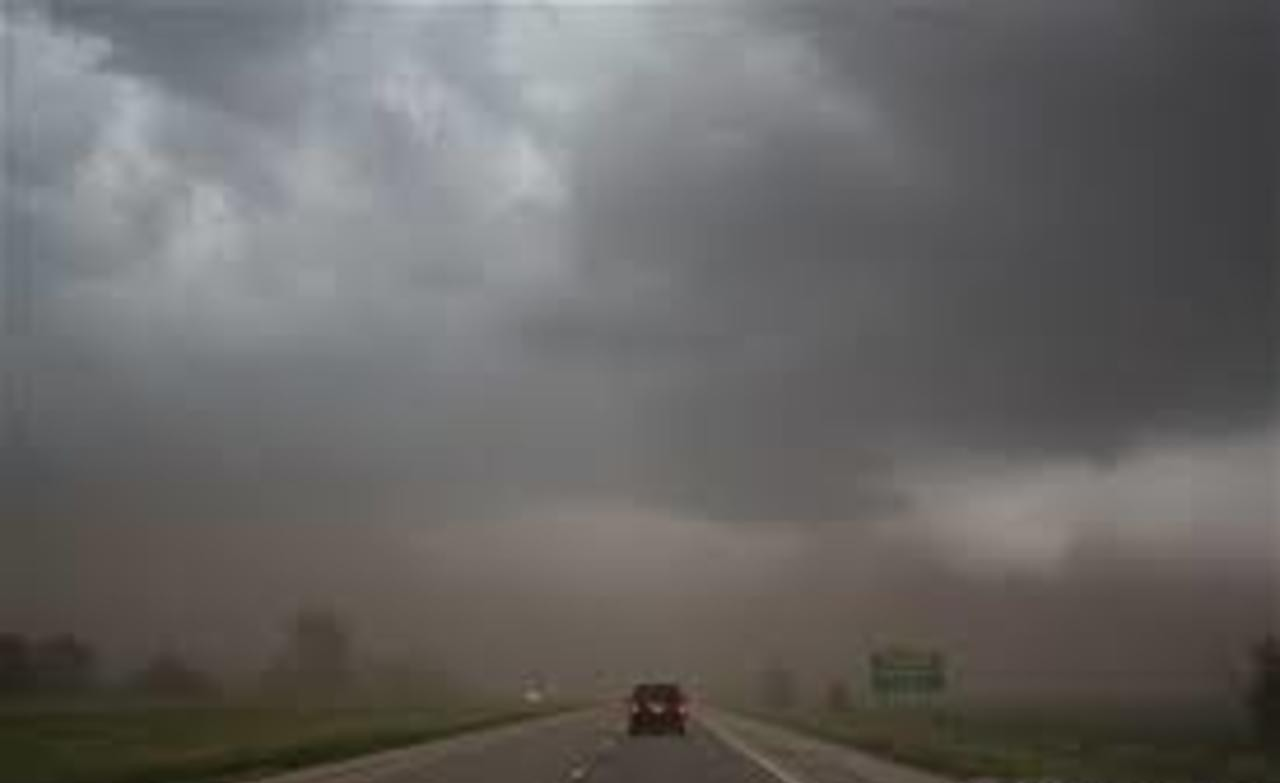car: (627, 677, 688, 735)
